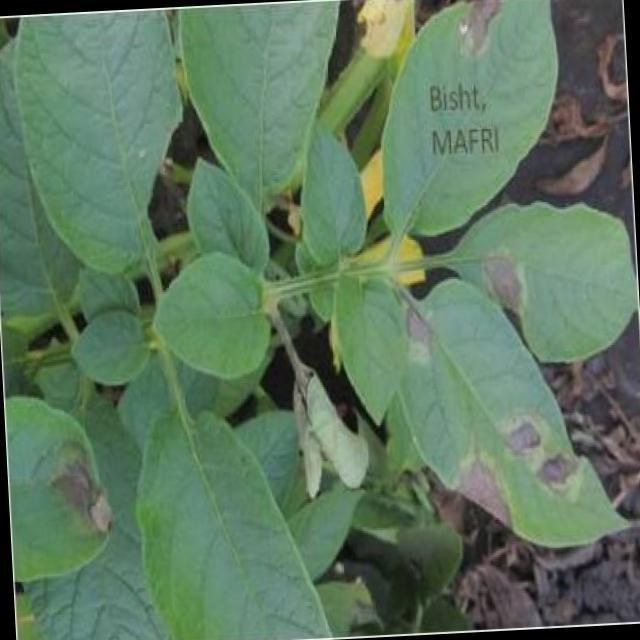Healthy Leaf: (13, 12, 185, 270), (137, 400, 315, 640), (137, 262, 286, 379), (337, 268, 411, 424), (186, 156, 272, 274), (302, 120, 368, 270), (66, 306, 156, 386)
